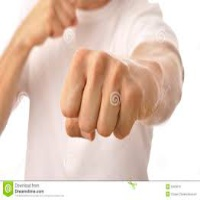ring: (97, 63, 120, 141), (55, 2, 73, 28)
